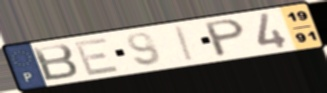4: (255, 10, 290, 51)
9: (125, 31, 164, 68)
B: (30, 42, 81, 83)
E: (72, 35, 123, 78)
I: (174, 24, 198, 63)
P: (203, 17, 247, 59)
